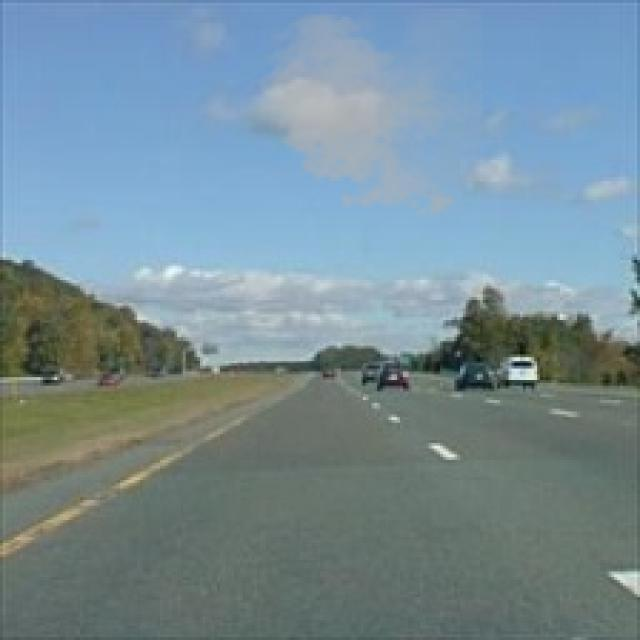Smoke: (251, 6, 483, 223)
